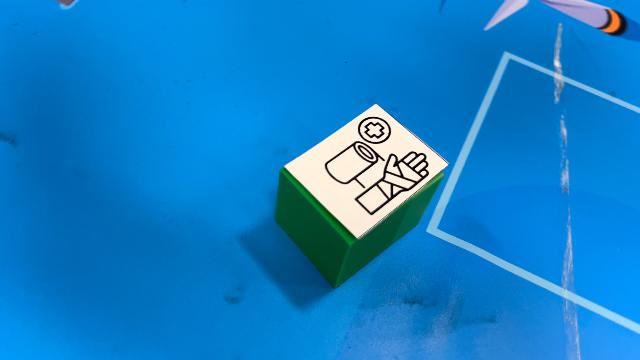bandage: (274, 103, 450, 288)
